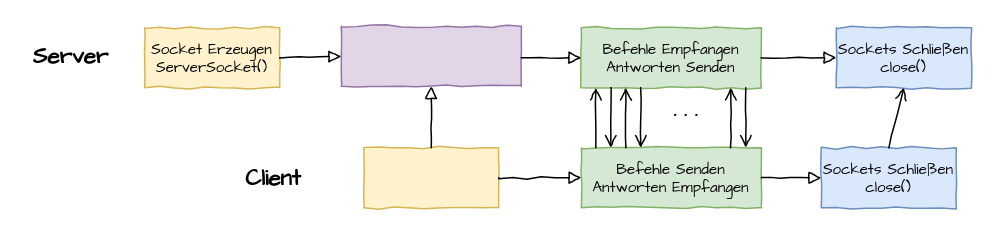
Image size: 998x234. Some labels were removed from this diagram. Here are the shapes that lost their labels. From the top down, the centre of each, then its label:
At pixel 430 55: "Verbindung Annehmen und Socket Erzeugen accept()".
At pixel 430 177: "Socket Erzeugen Socket()".
